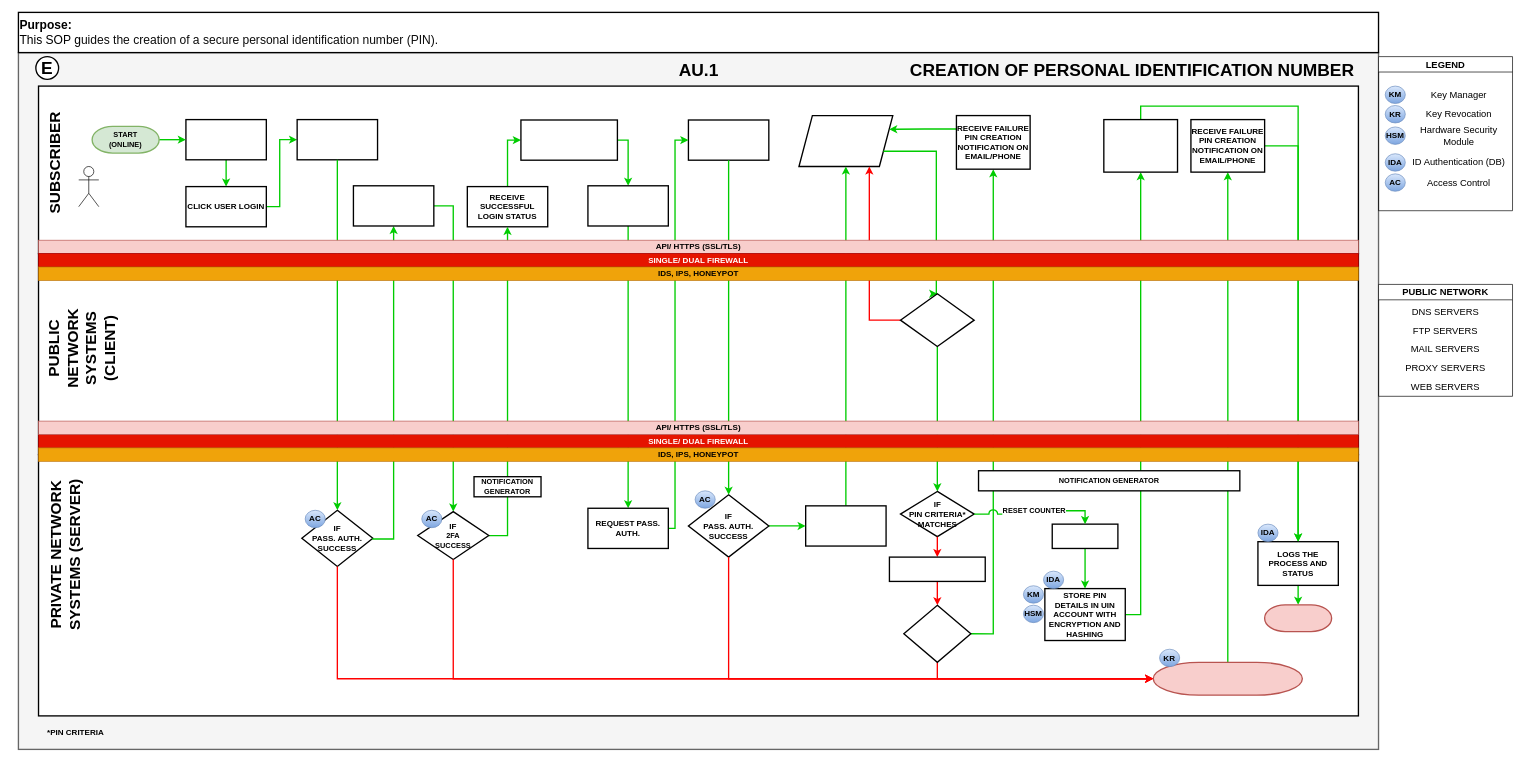
The diagram is 1524 pixels wide and 761 high, and some of its shapes have lost their labels. The centre of each missing label's shape, as x and y in pixels:
2FA USING (ONE) OTP: AU.2.C MEM. SEC.: AU.1.D: (x=393, y=205)
AUTHENTICATE USING PASSWORD: AU.1.B: (x=728, y=140)
BIND PIN AUTHENTICATOR: (x=1084, y=536)
CLICK CONFIGURE PIN: (x=628, y=205)
END: (x=1298, y=618)
ENTERS NEW 6-DIGIT PIN TWICE WITH SPECIFIED CRETERIA: (x=845, y=141)
EXCEPTION AND ERROR HANDLING (COUNTER): (x=937, y=569)
IF BOTH ENTERED PIN MATCHES: (x=937, y=320)
IF RETRY COUNT <=3: (x=937, y=633)
LOGIN - PASS. AUTH.: AU.1.B: (x=337, y=139)
NAVIGATE SETTINGS -> SECURITY-> 'PIN': (x=569, y=140)
PROMPT TO CREATE NEW 6-DIGIT PIN: (x=845, y=525)
RECEIVE SUCCESSFUL PIN CREATION NOTIFICATION ON EMAIL/PHONE: (x=1140, y=145)
TERMINATE PROCESS: LOCK UIN ACCOUNT FOR 24 HOURS: (x=1227, y=678)
USER: (x=88, y=186)
VISIT DID PORTAL: (x=226, y=139)
